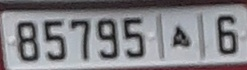5: (43, 18, 68, 62), (122, 16, 147, 60)
6: (216, 13, 239, 55)
7: (69, 18, 94, 61)
8: (16, 20, 41, 63)
9: (96, 17, 121, 60)
h: (170, 24, 193, 51)
